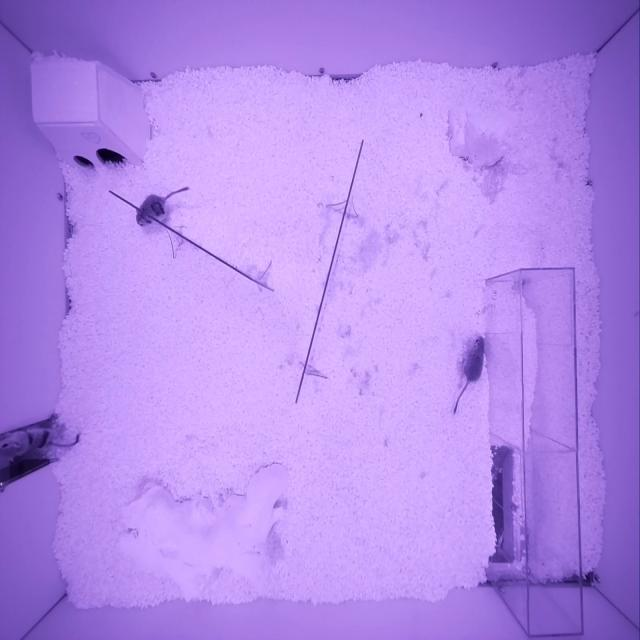pup_fluffy: (463, 334, 486, 382)
pup_h_stripe: (0, 423, 68, 462)
pup_spotted: (136, 194, 167, 226)
